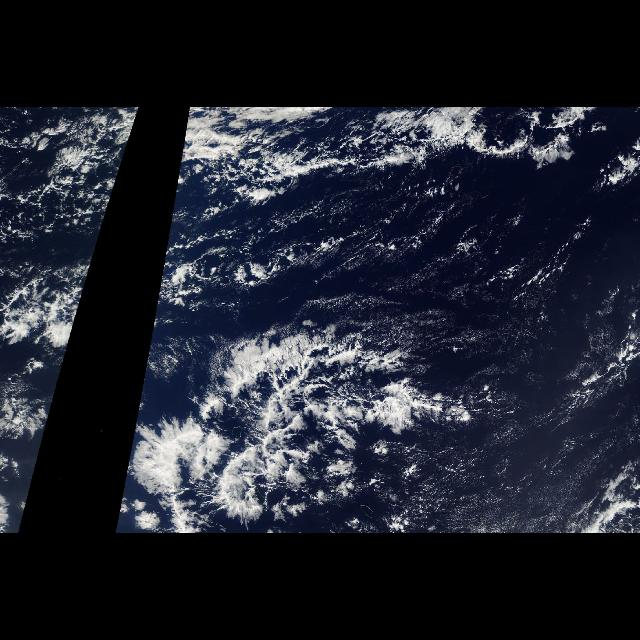Fish: (117, 311, 510, 534), (169, 108, 567, 225), (60, 108, 140, 225)
Gravel: (2, 107, 138, 259)
Sugar: (336, 191, 630, 534)
